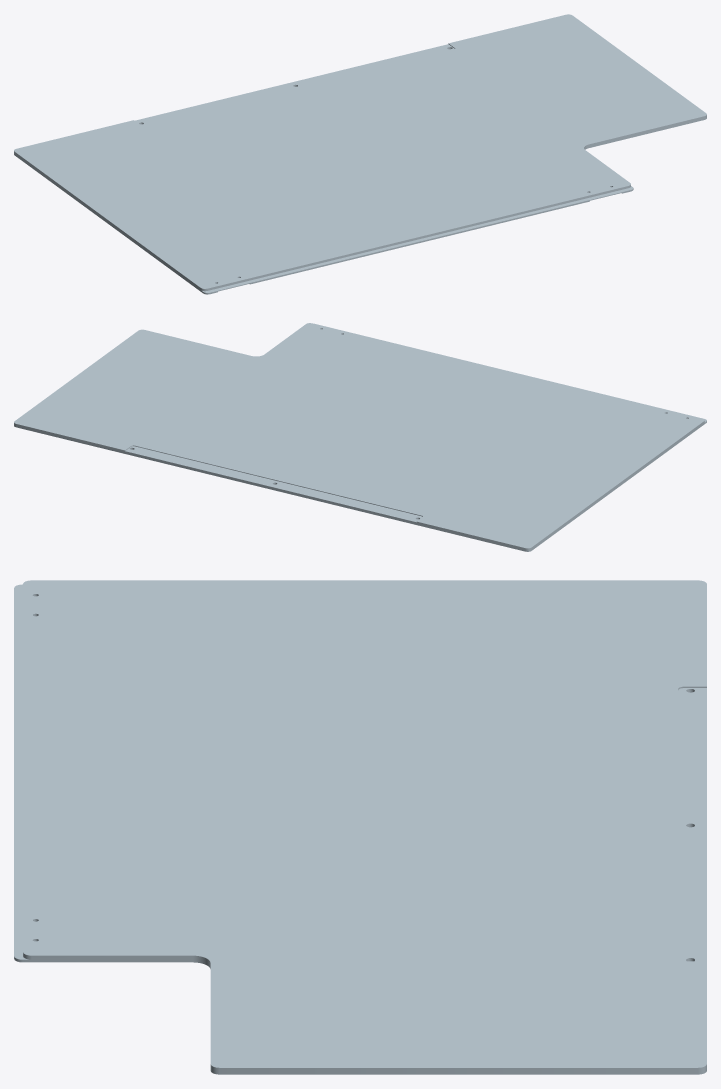
Rendered from door_lower.obj.
3 renders of one model, top to bottom at view 1: azimuth 30°, elevation 25°; view 2: azimuth 150°, elevation 25°; view 3: azimuth 270°, elevation 25°, orthographic. The views are drawn at different scales.
Parts seen in each view (by area): view 1: door_lower_0; view 2: door_lower_0; view 3: door_lower_0.
Boxes of the visible parts, left/top/right/bottom form: door_lower_0: left=14, top=14, right=706, bottom=294; door_lower_0: left=14, top=323, right=706, bottom=551; door_lower_0: left=14, top=580, right=706, bottom=1074.
Bounding box in the file's own units: 0.778 × 0.00505 × 0.4674.
